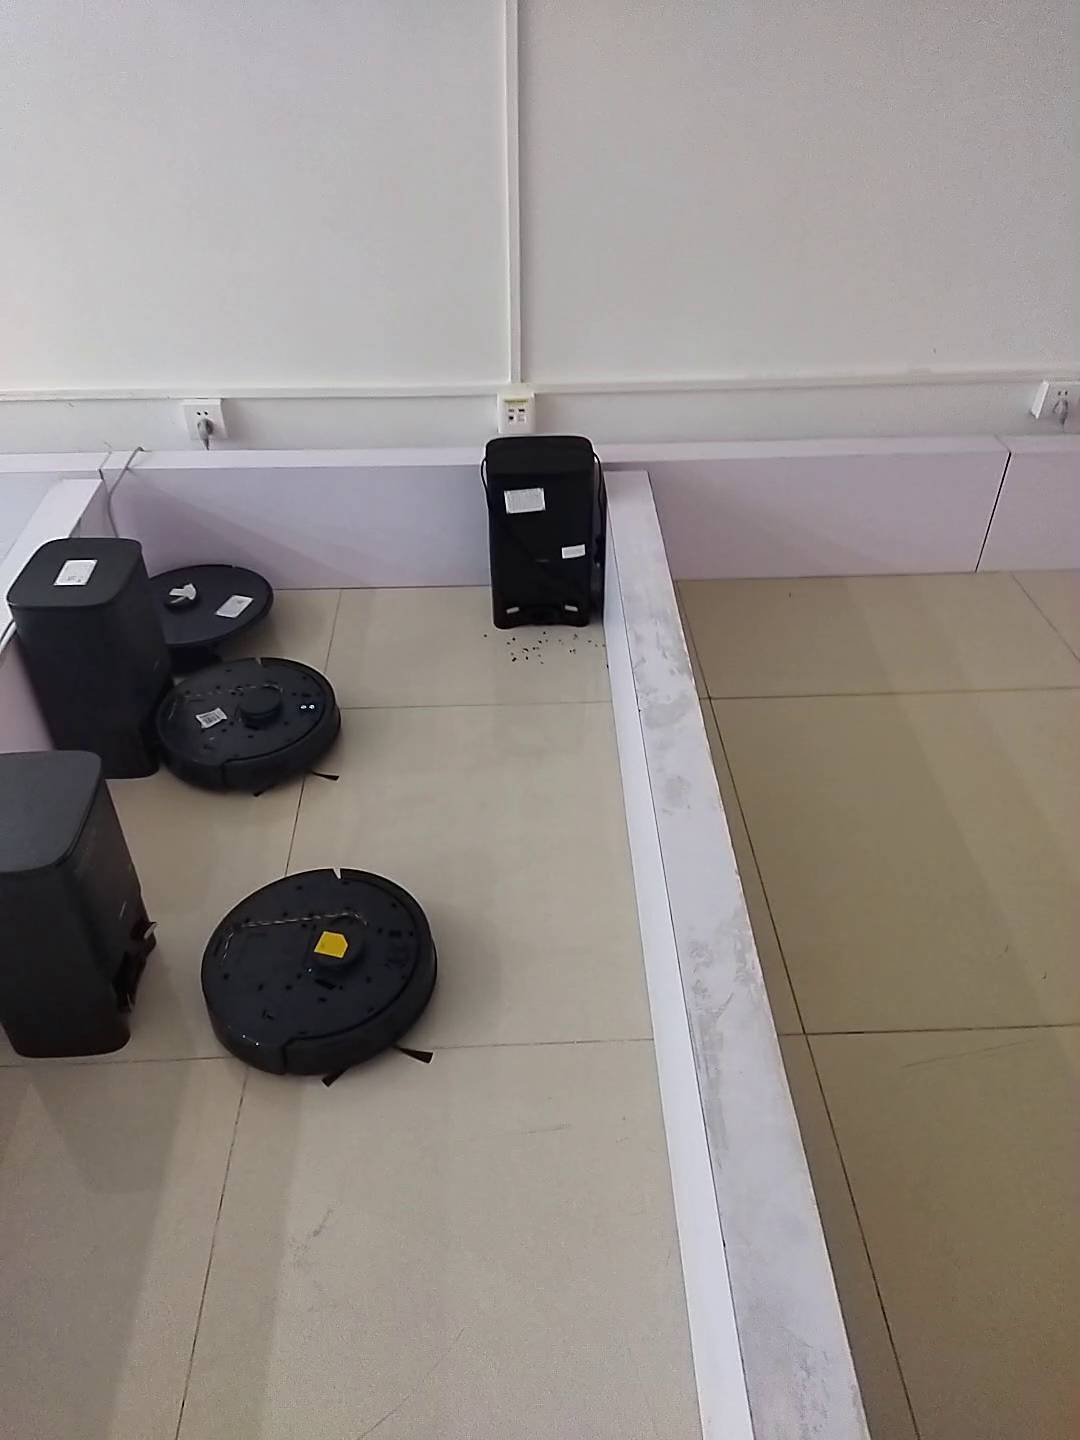dust collecting barrel: (1, 749, 159, 1054), (10, 537, 170, 782), (483, 437, 608, 630)
